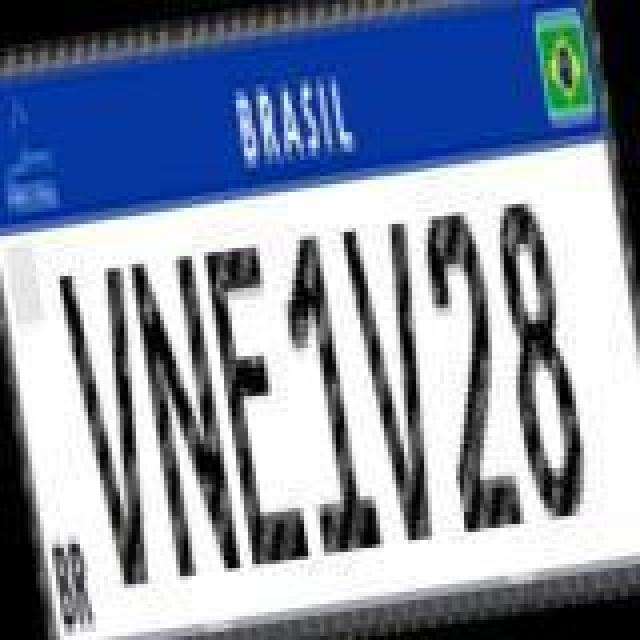1: (270, 224, 386, 560)
2: (414, 204, 530, 540)
8: (480, 196, 592, 524)
E: (200, 238, 312, 570)
N: (126, 250, 242, 582)
V: (54, 260, 170, 596), (342, 218, 458, 550)
